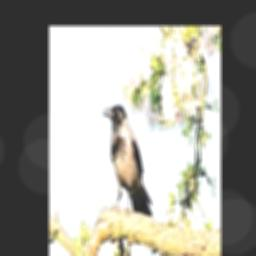Crow: (103, 104, 153, 213)
